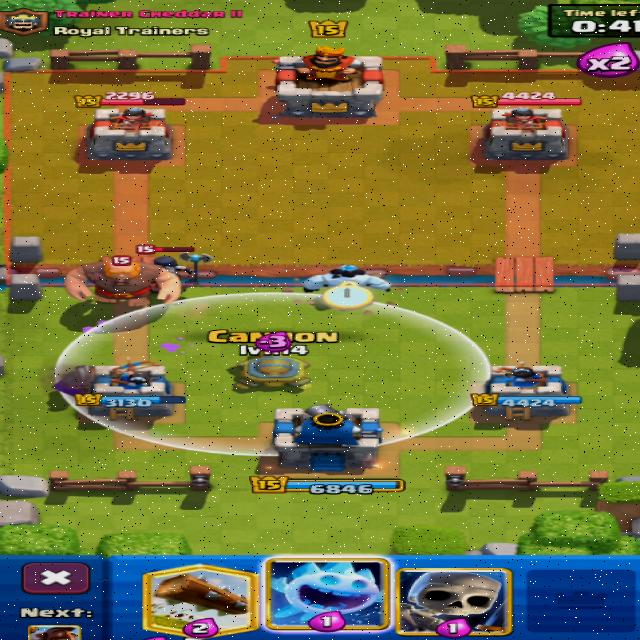Enemy-Giant: (66, 258, 177, 308)
Enemy-KingTower: (274, 46, 383, 118)
Enemy-NightWitch: (137, 245, 212, 286)
Enemy-PrincessTower: (86, 107, 171, 163), (483, 107, 566, 160)
Player-IceGolem: (304, 265, 390, 292)
Player-KingTower-Activated: (273, 405, 383, 472)
Player-Musketeer-Evo: (54, 366, 94, 393)
Player-PrincessTower: (473, 366, 581, 420), (92, 361, 173, 419)
